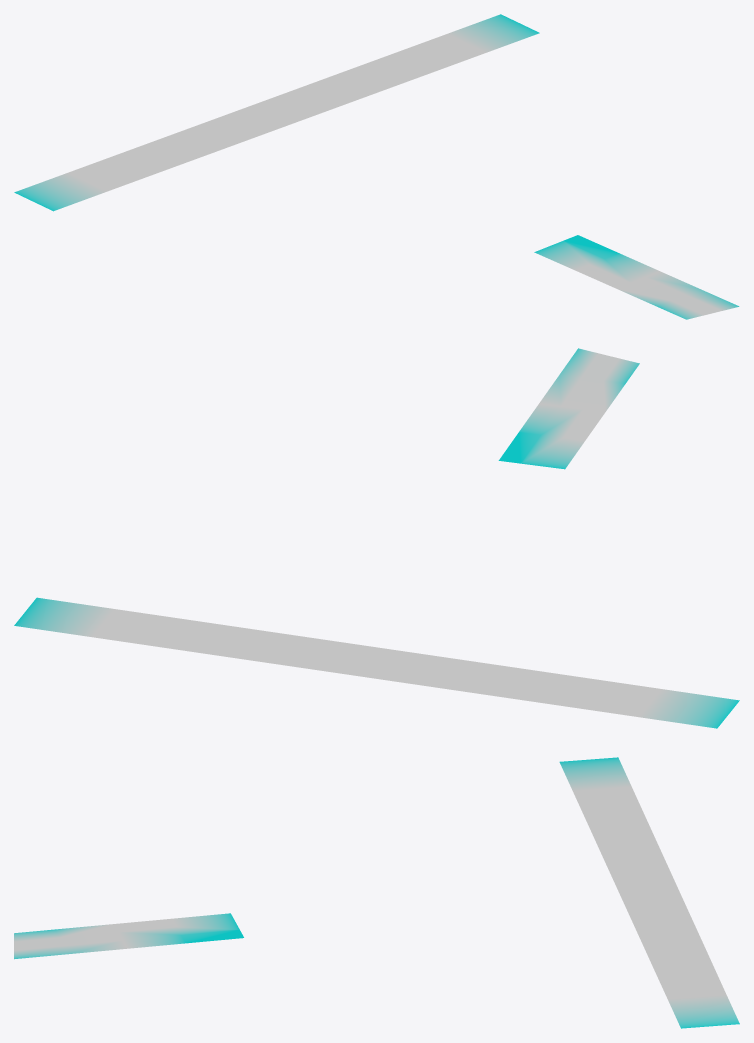
3 renders of one model, top to bottom at view 1: azimuth 30°, elevation 25°; view 2: azimuth 150°, elevation 25°; view 3: azimuth 270°, elevation 25°, orthographic. The views are drawn at different scales.
Visible parts, largest first — view 1: SpaceCenter_Long3_GenerateRoad_Asphalt_PCGMesh_Decal_Mesh_x1; view 2: SpaceCenter_Long3_GenerateRoad_Asphalt_PCGMesh_Decal_Mesh_x1; view 3: SpaceCenter_Long3_GenerateRoad_Asphalt_PCGMesh_Decal_Mesh_x1.
Part boxes in pixels (bbox=[...]): SpaceCenter_Long3_GenerateRoad_Asphalt_PCGMesh_Decal_Mesh_x1: bbox=[14, 14, 739, 319]; SpaceCenter_Long3_GenerateRoad_Asphalt_PCGMesh_Decal_Mesh_x1: bbox=[14, 348, 739, 728]; SpaceCenter_Long3_GenerateRoad_Asphalt_PCGMesh_Decal_Mesh_x1: bbox=[14, 757, 739, 1028].
Size of the model in its own units: 435 by 385 by 2.84.
